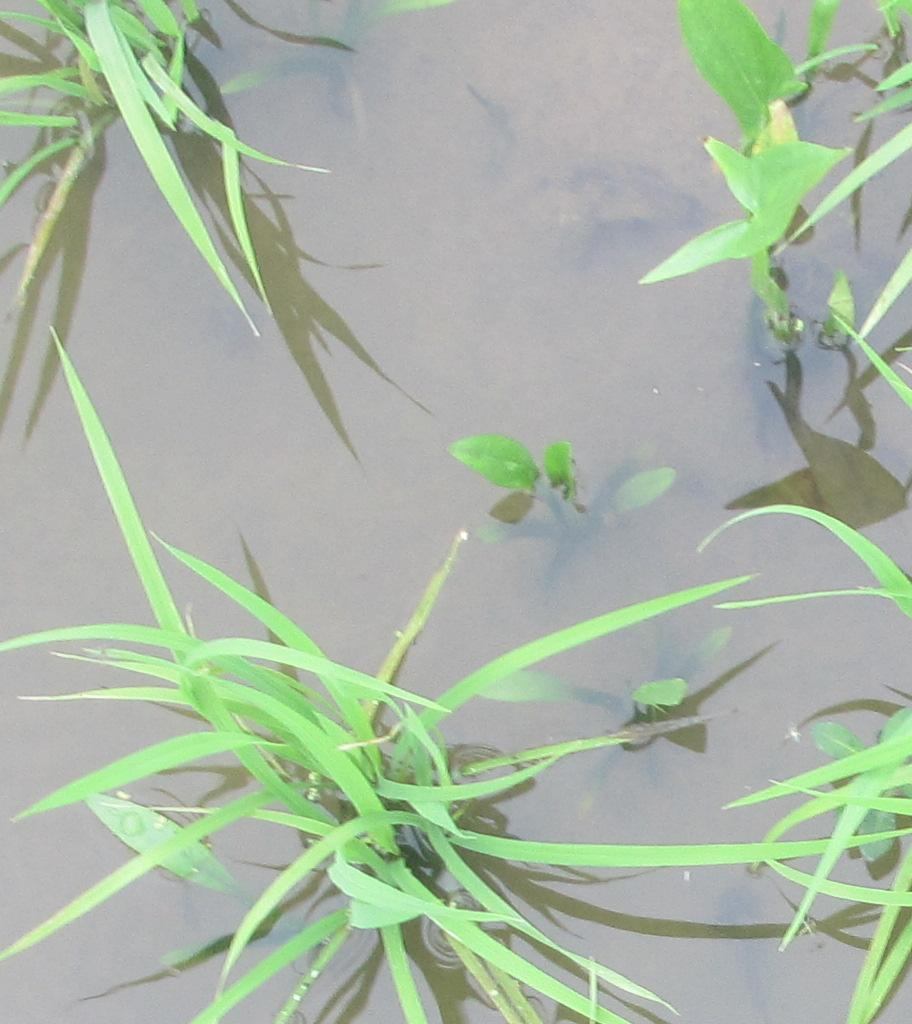Weed: (664, 3, 850, 302), (433, 425, 697, 535)
